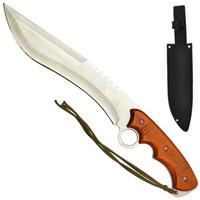knife: (2, 2, 191, 195)
